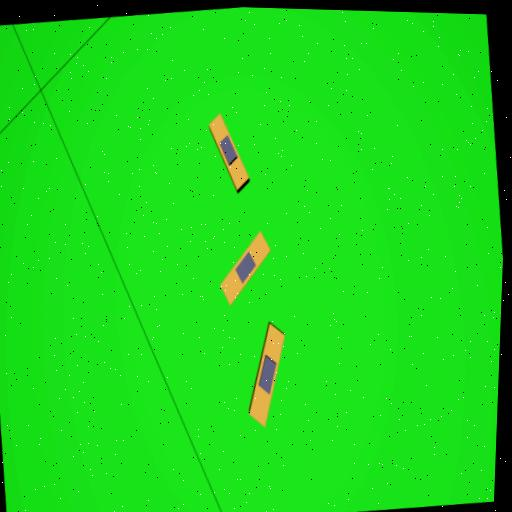objects: (214, 230, 277, 305), (247, 323, 286, 427), (205, 114, 252, 190)
